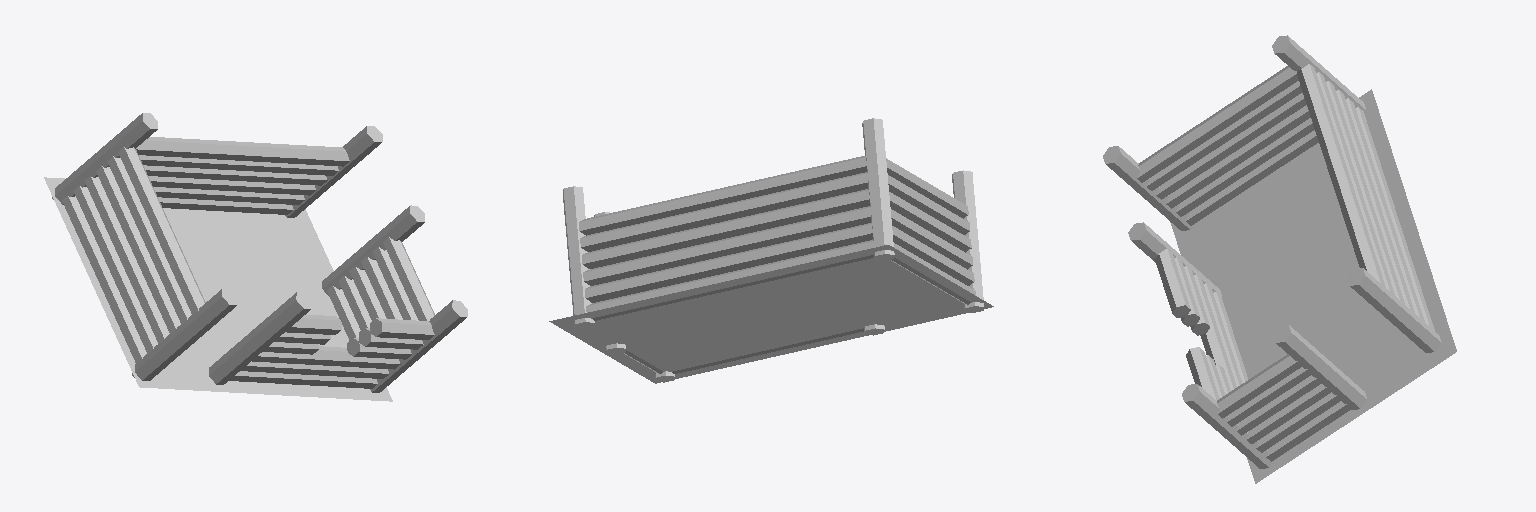
Rendered from RuinVillage.obj.
3 renders of one model, left to right at view 1: azimuth 30°, elevation 25°; view 2: azimuth 150°, elevation 25°; view 3: azimuth 270°, elevation 25°, orthographic.
Visible parts, largest first — view 1: Plane.001; view 2: Plane.001; view 3: Plane.001.
Boxes of the visible parts, <box> form: Plane.001: <box>44,113,467,401</box>; Plane.001: <box>549,118,993,383</box>; Plane.001: <box>1103,35,1456,483</box>.
Size of the model in its own units: 0.5514 by 0.5129 by 0.4929.